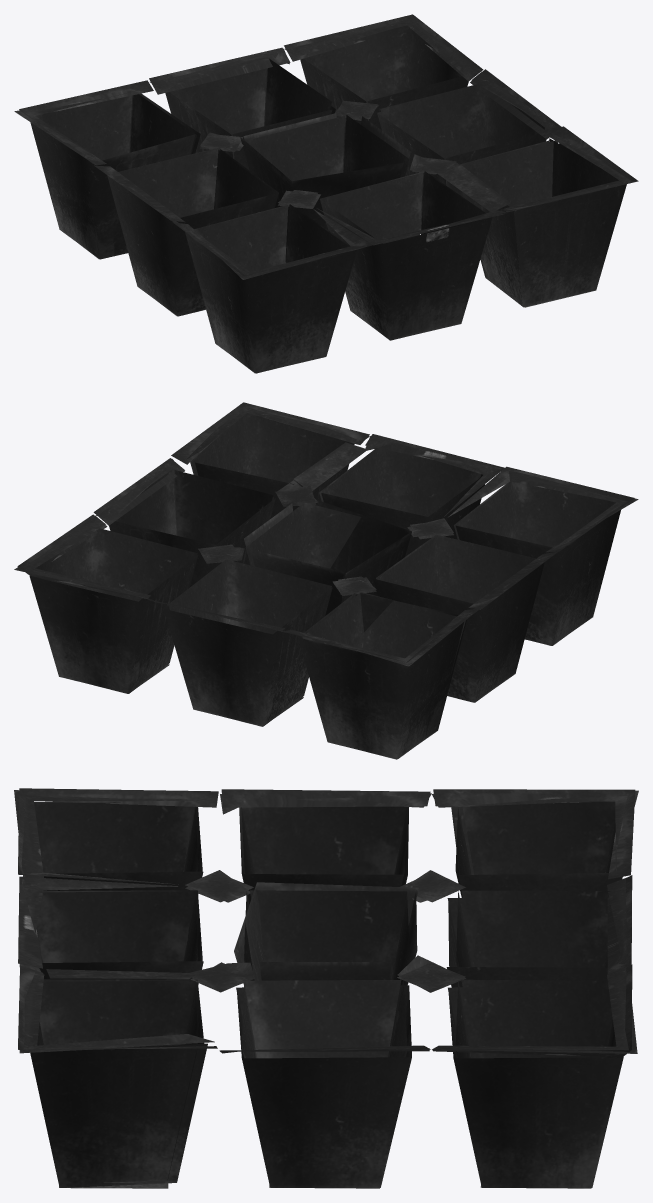
Rendered from SeedingTray.gltf.
The picture shows the model from 3 angles, top to bottom: view 1: azimuth 30°, elevation 25°; view 2: azimuth 150°, elevation 25°; view 3: azimuth 270°, elevation 25°; orthographic projection. The views are drawn at different scales.
Visible parts, largest first — view 1: SeedingTray; view 2: SeedingTray; view 3: SeedingTray.
Boxes of the visible parts, left/top/right/bottom form: SeedingTray: left=14, top=14, right=638, bottom=373; SeedingTray: left=14, top=402, right=638, bottom=759; SeedingTray: left=14, top=788, right=638, bottom=1188.
Bounding box in the file's own units: 0.2167 × 0.0607 × 0.2168.
Materials: 1 (1 with a texture image).
